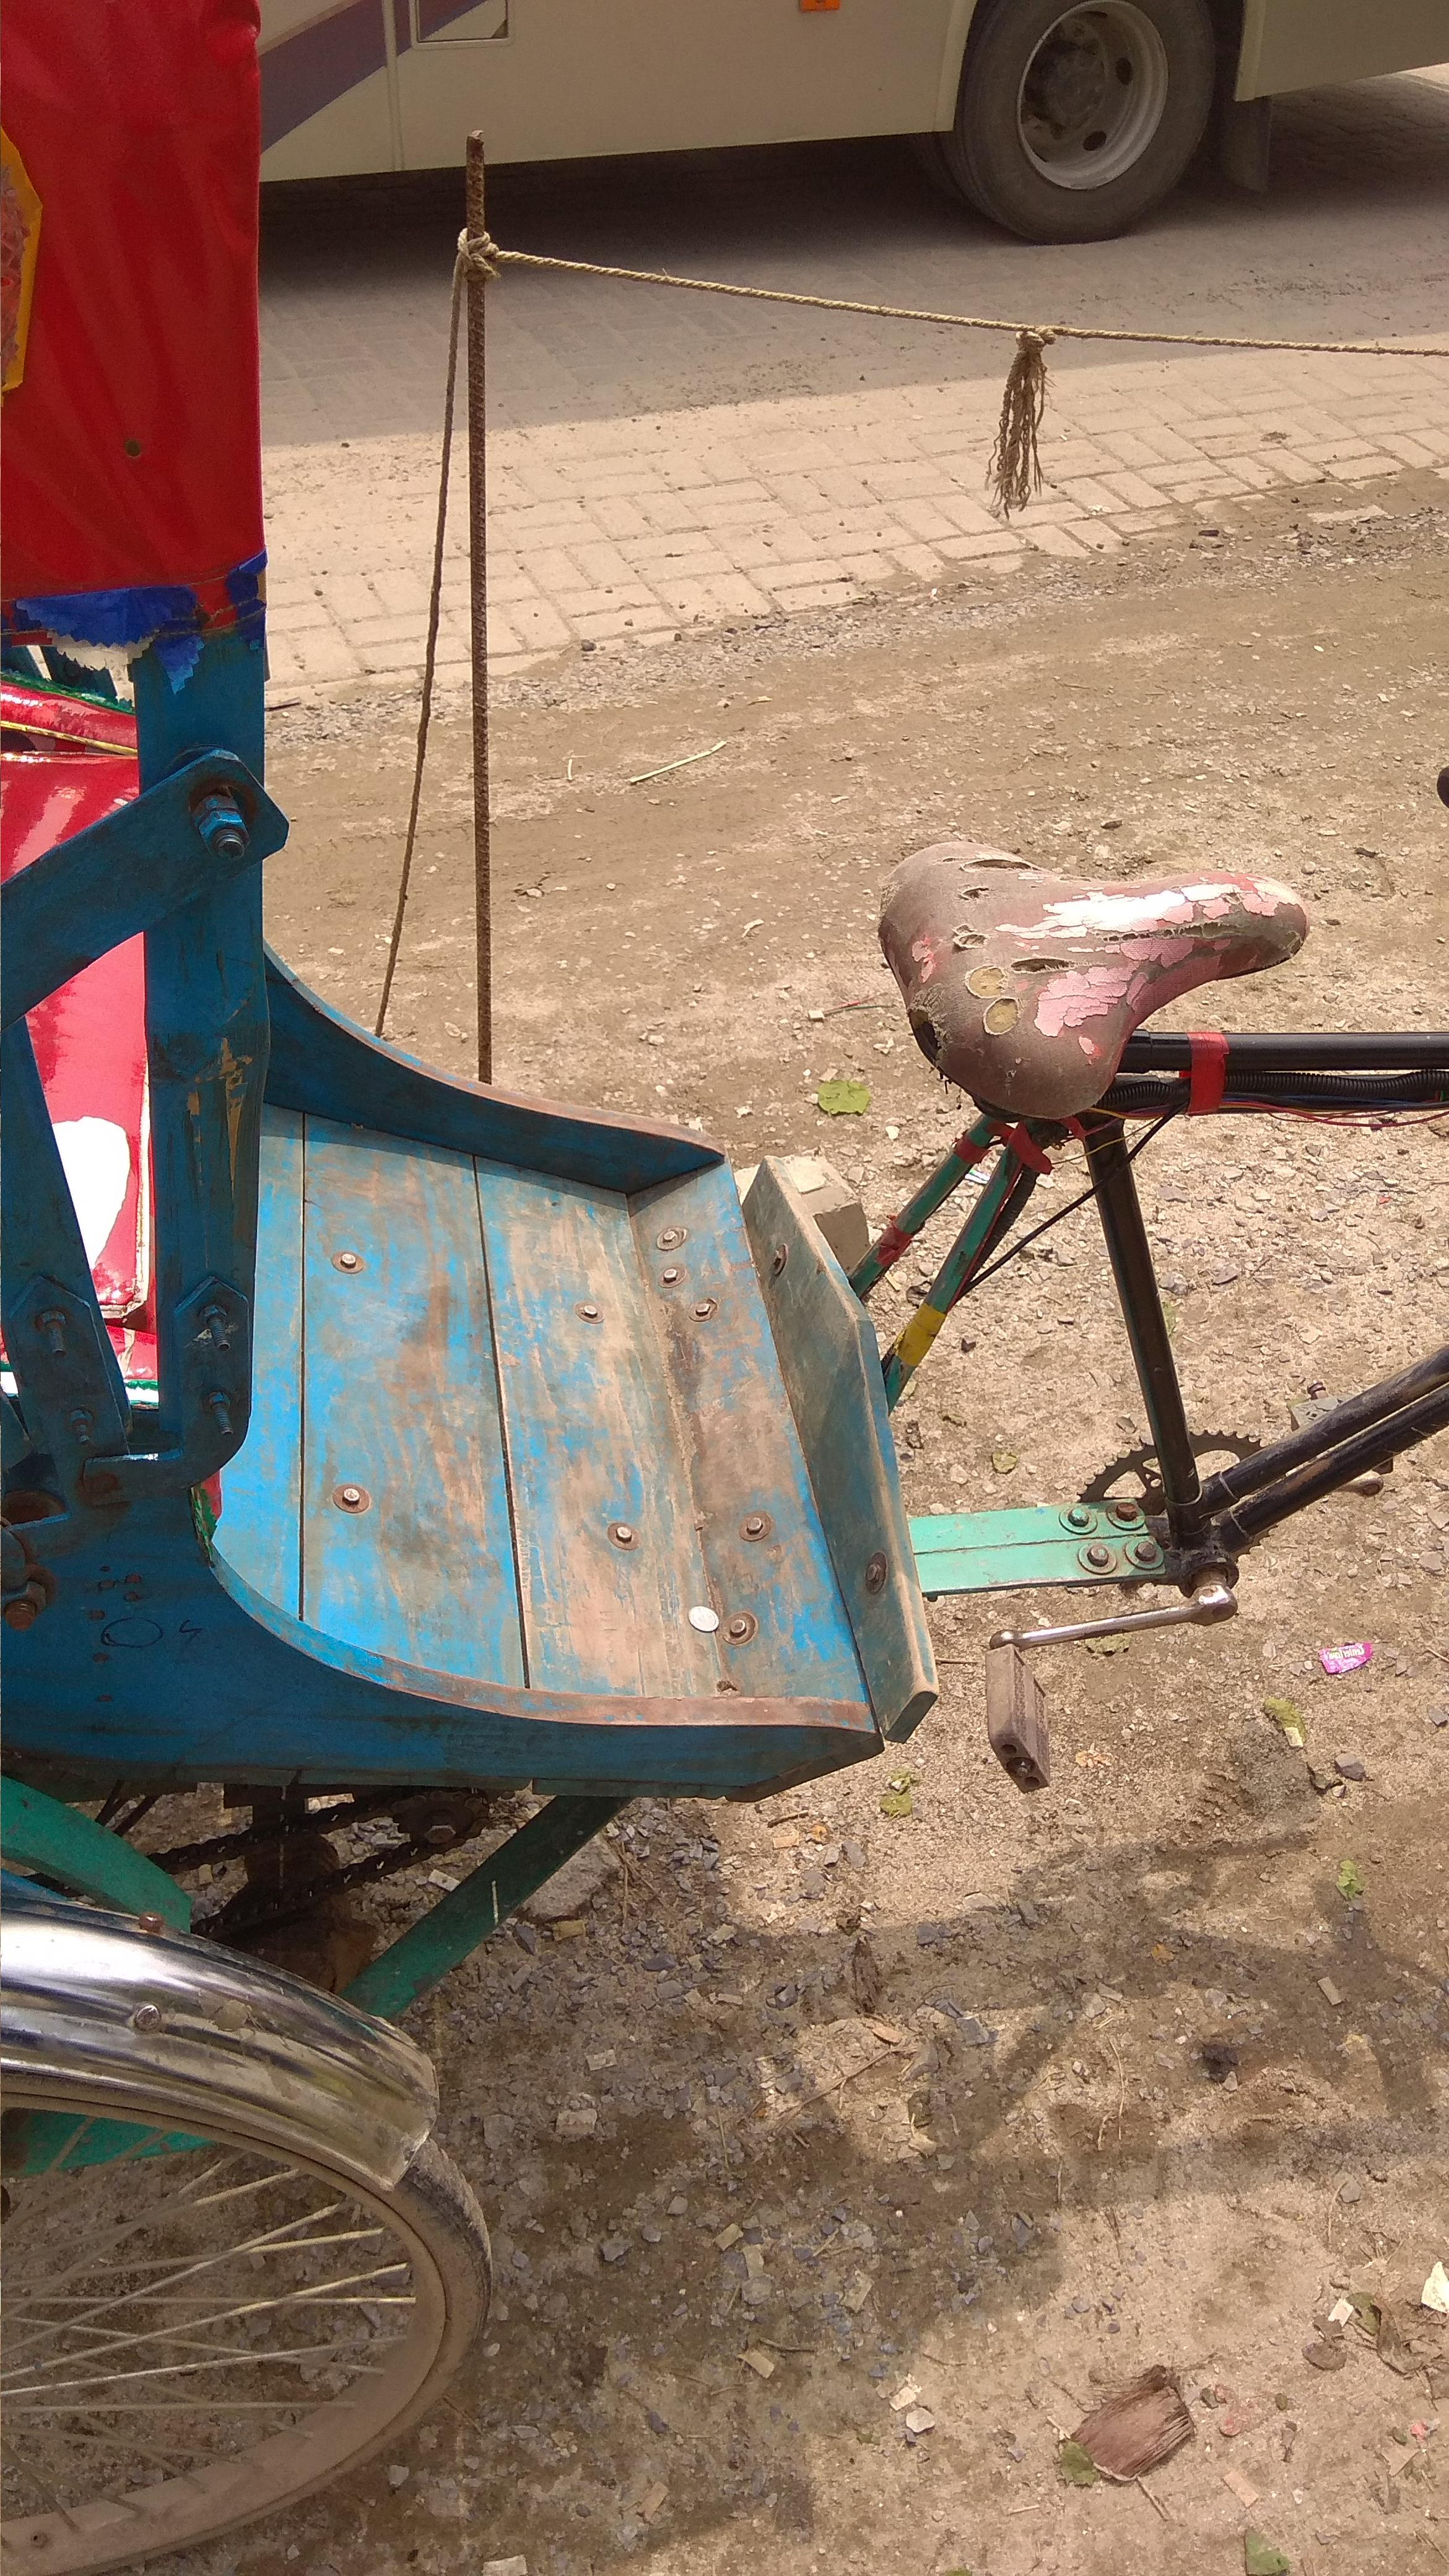Rickshaw: (9, 14, 1412, 2396)
